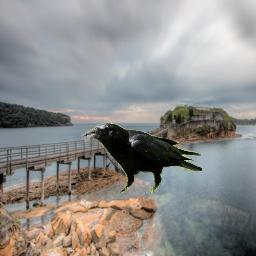Crow: (81, 123, 202, 193)
